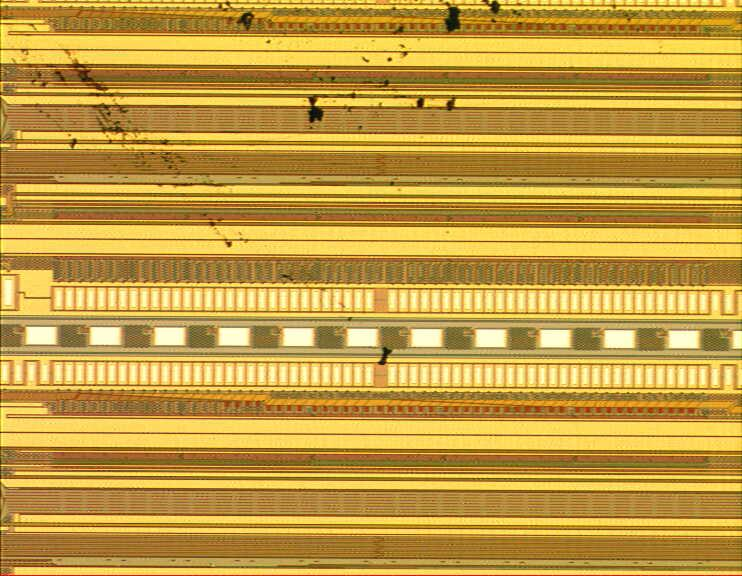PO CONTAMINATION: (7, 1, 527, 370)
